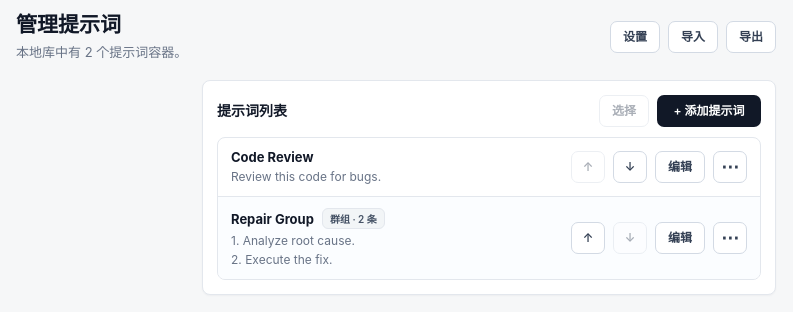
it: prompt manager › uses the same standard actions and overflow menu for singles and groups
The image size is (793, 312).
Expected: the number of buttons "编辑" is 2, top-left (655, 151), bottom-right (705, 183); top-left (655, 222), bottom-right (705, 254)
Expected: the button named "上移 Code Review" is shown, top-left (571, 151), bottom-right (605, 183)
Step 1. Click the button named "Code Review 的更多操作" → (730, 167), box top-left (713, 151), bottom-right (747, 183)
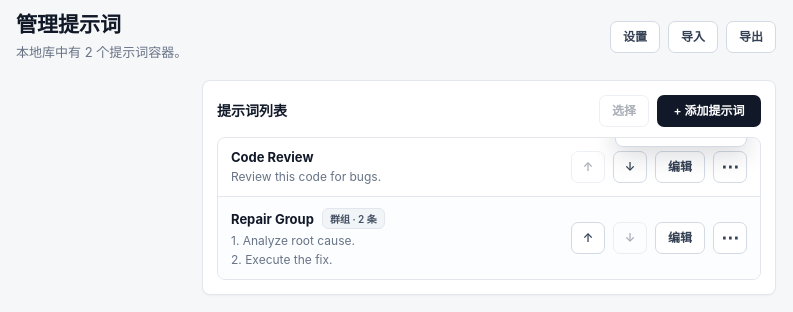
Expected: the menu item "拆分为单条" is not shown
Step 2. Click the button named "Repair Group 的更多操作" → (730, 238), box top-left (713, 222), bottom-right (747, 254)
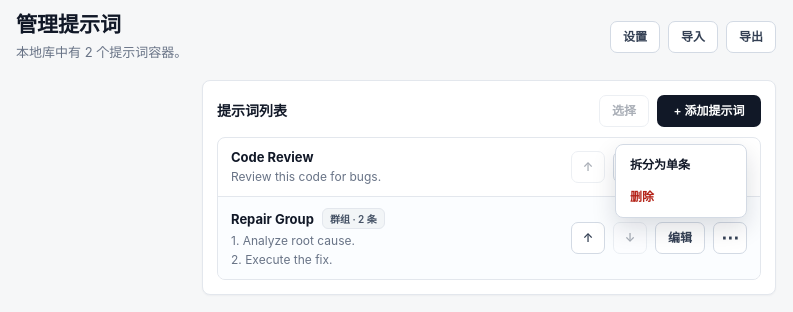
Expected: the menu item "拆分为单条" is shown, top-left (620, 149), bottom-right (742, 181)
Expected: the menu item "删除" is shown, top-left (620, 181), bottom-right (742, 213)
